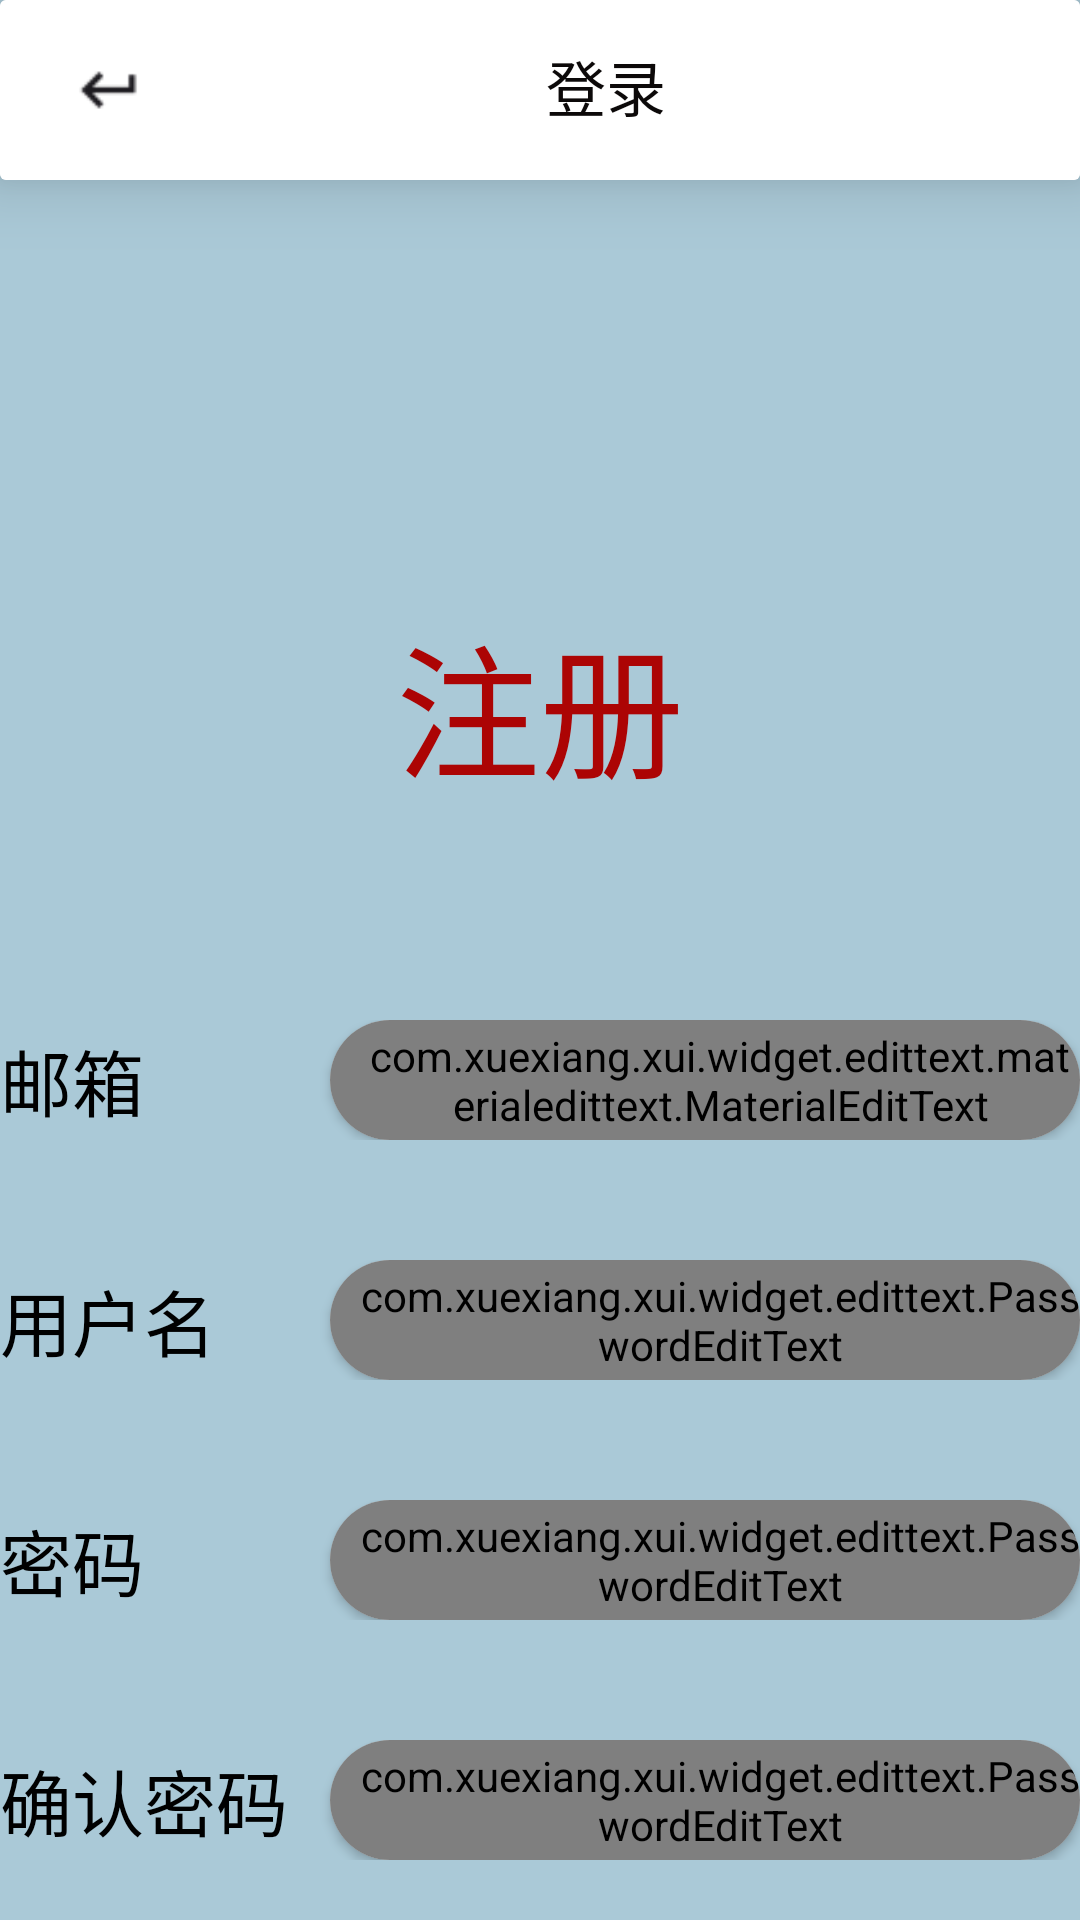

Where icons sit on this 1080w x 1920h app screen, as (x1, y1, x2, y2):
top bar back: (81, 71, 137, 109)
